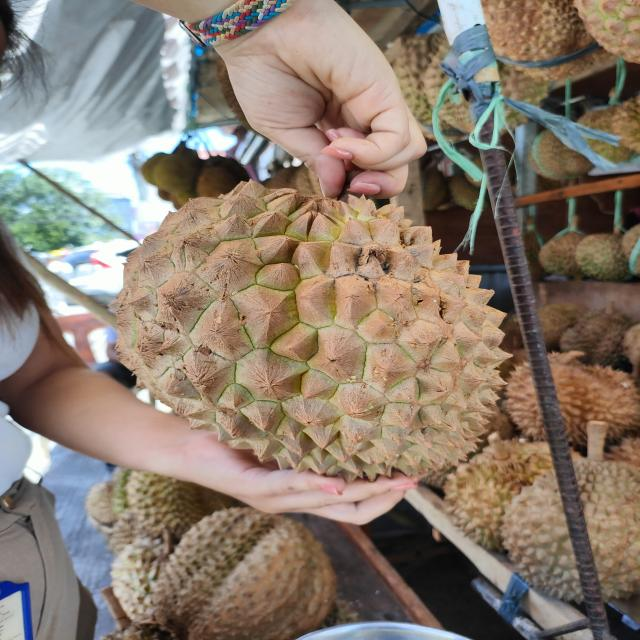mature: (109, 202, 513, 483)
